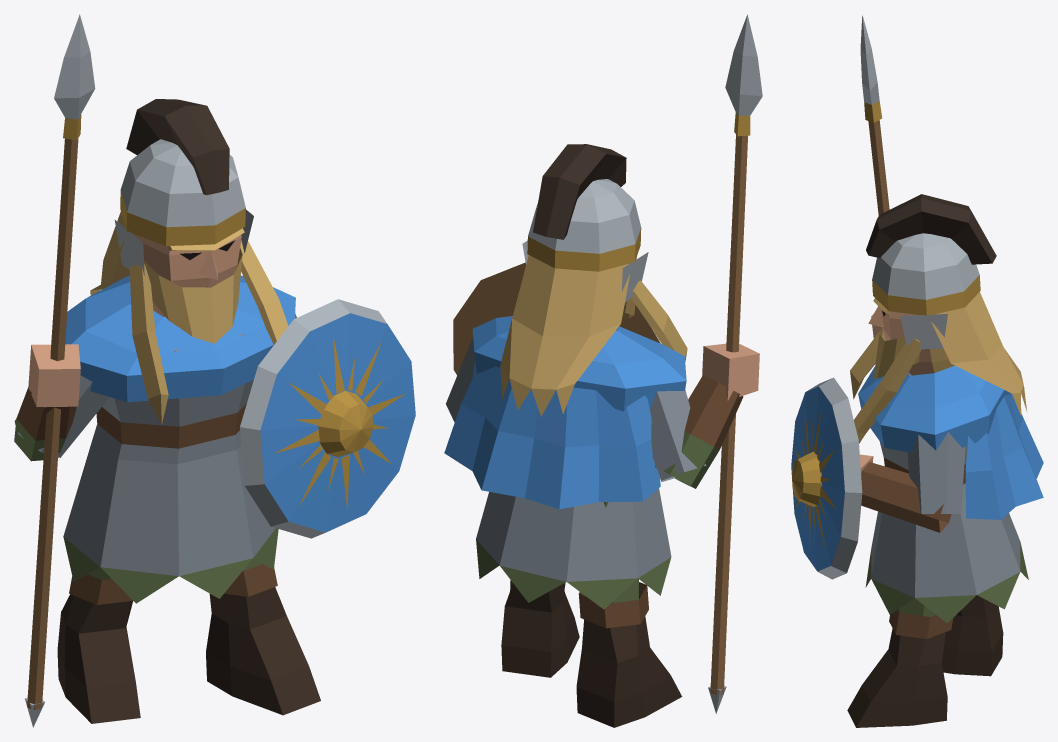
The model's file is hama.glb.
3 renders of one model, left to right at view 1: azimuth 30°, elevation 25°; view 2: azimuth 150°, elevation 25°; view 3: azimuth 270°, elevation 25°, orthographic. The views are drawn at different scales.
Visible parts, largest first — view 1: hama; view 2: hama; view 3: hama.
Part boxes in pixels (x1,y1,x2,y2): hama: (14,14,415,727); hama: (444,14,762,727); hama: (791,15,1043,727).
Size of the model in its own units: 0.9601 by 1.92 by 0.7119.
